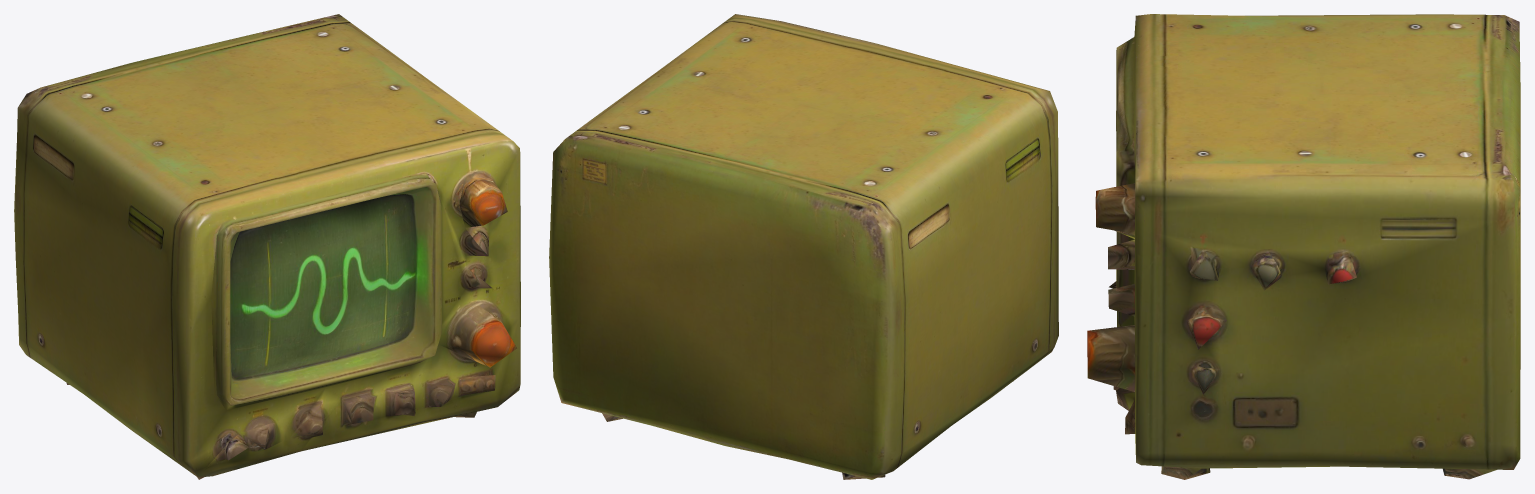
Rendered from Vintage_Oscilloscope_0408235620_texture.glb.
3 views of the same model, side by side, from view 1: azimuth 30°, elevation 25°; view 2: azimuth 150°, elevation 25°; view 3: azimuth 270°, elevation 25° (orthographic). The views are drawn at different scales.
Parts seen in each view (by area): view 1: Mesh1; view 2: Mesh1; view 3: Mesh1.
Boxes of the visible parts, x1,y1,x2,y2 form: Mesh1: (14,14,520,479); Mesh1: (549,14,1058,479); Mesh1: (1087,14,1520,479).
Size of the model in its own units: 1.99 by 1.51 by 1.88.
Materials: 1 (1 with a texture image).
